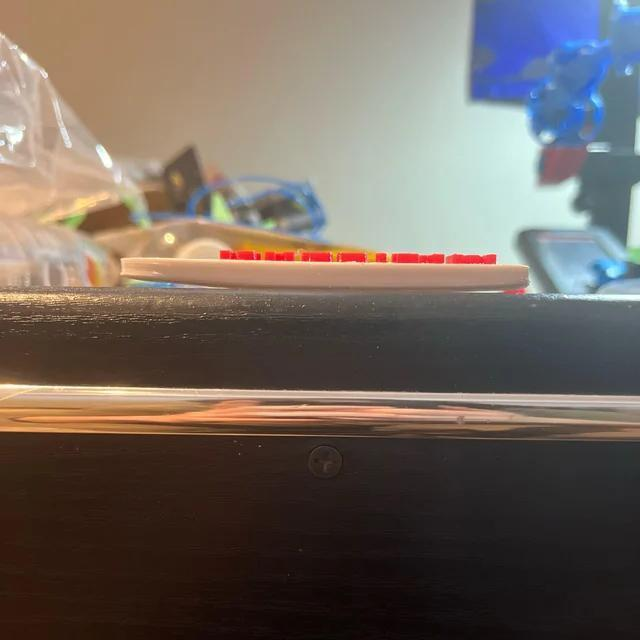Warping: (120, 266, 210, 292), (458, 279, 528, 302)
